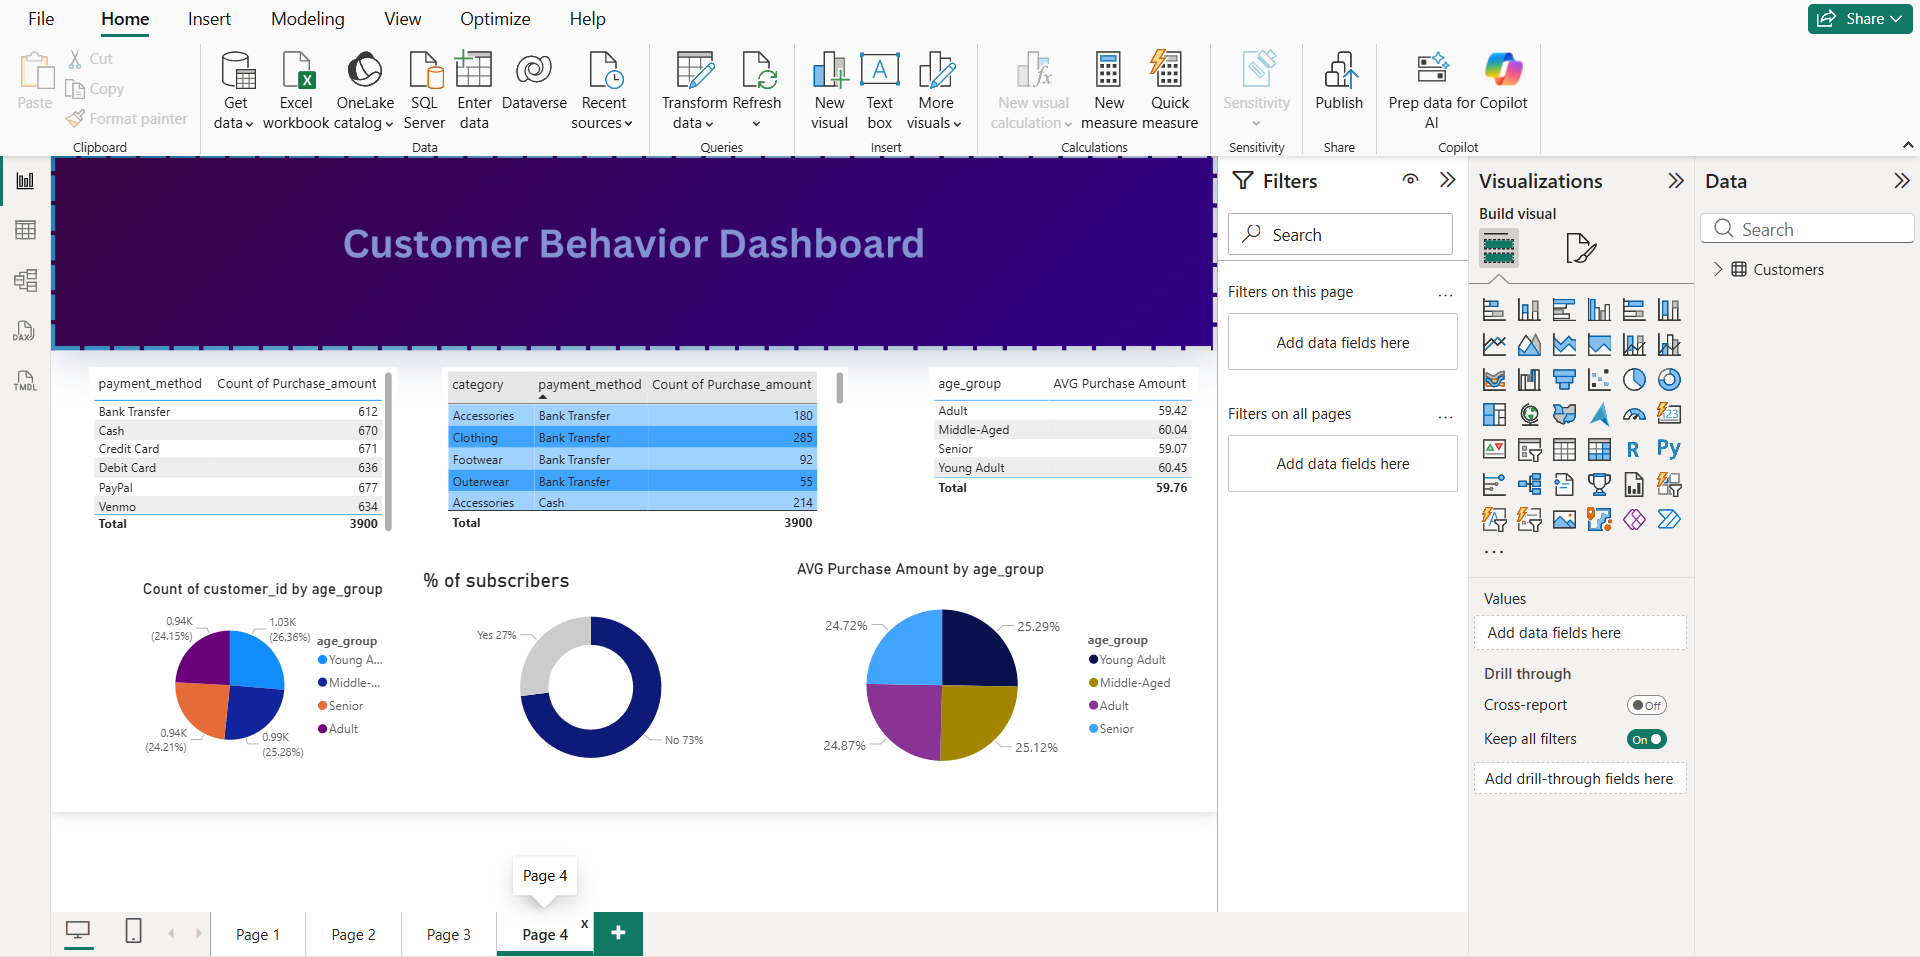

Layout of this report page (visuals, bound fields, positions):
{"tool":"powerbi","page":{"name":"Page 4","canvas":[1280,720],"ordinal":3},"visuals":[{"type":"donutChart","title":"% of subscribers","fields":{"Category":["Customers.subscription_status"],"Y":["CountNonNull(Customers.customer_id)"]},"box":[402.9,452.9,378.6,237.1],"z":0},{"type":"pieChart","fields":{"Category":["Customers.age_group"],"Y":["CountNonNull(Customers.customer_id)"]},"box":[96.1,465.2,284,212.7],"z":1000},{"type":"tableEx","fields":{"Values":["Customers.payment_method","CountNonNull(Customers.Purchase_amount)"]},"box":[41.2,231.9,338.9,186.6],"z":1001},{"type":"tableEx","fields":{"Values":["Customers.category","Customers.payment_method","CountNonNull(Customers.Purchase_amount)"]},"box":[429.5,231.9,446,186.6],"z":1002},{"type":"tableEx","fields":{"Values":["Customers.age_group","Customers.AVG Purchase Amount"]},"box":[963.3,231.9,296.4,186.6],"z":1003},{"type":"pieChart","fields":{"Category":["Customers.age_group"],"Y":["Customers.AVG Purchase Amount"]},"box":[813.7,443.2,429.5,256.6],"z":1004}]}

Visuals, with their boxes on the page's 1280x720 design canvas (x1, y1, x2, y2). These are canvas units, not pixel positions in the 1920x957 screenshot, which may show the page scaled, cropped or inside an application window:
"% of subscribers" donutChart: <box>403,453,782,690</box>
pieChart - Customers.age_group x CountNonNull(Customers.customer_id): <box>96,465,380,678</box>
tableEx - Customers.payment_method x CountNonNull(Customers.Purchase_amount): <box>41,232,380,418</box>
tableEx - Customers.category x Customers.payment_method: <box>430,232,876,418</box>
tableEx - Customers.age_group x Customers.AVG Purchase Amount: <box>963,232,1260,418</box>
pieChart - Customers.age_group x Customers.AVG Purchase Amount: <box>814,443,1243,700</box>
